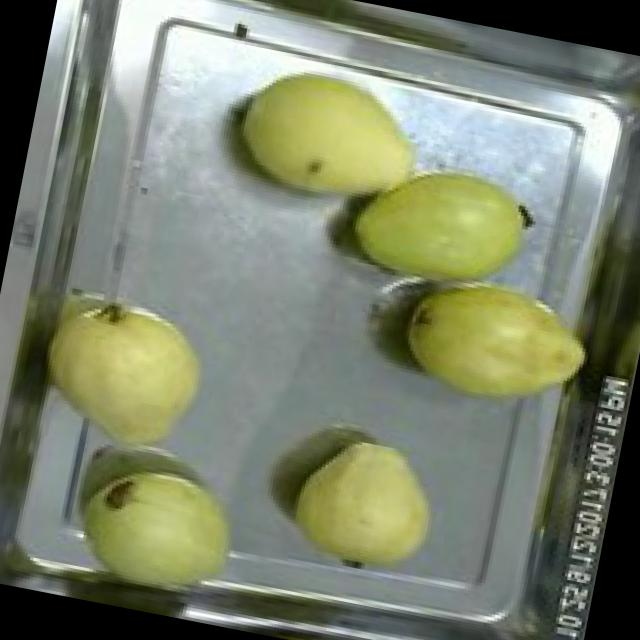Fruit: (218, 42, 442, 230), (17, 274, 231, 469), (384, 250, 606, 432), (331, 138, 547, 316), (58, 441, 260, 626), (272, 420, 458, 596)
